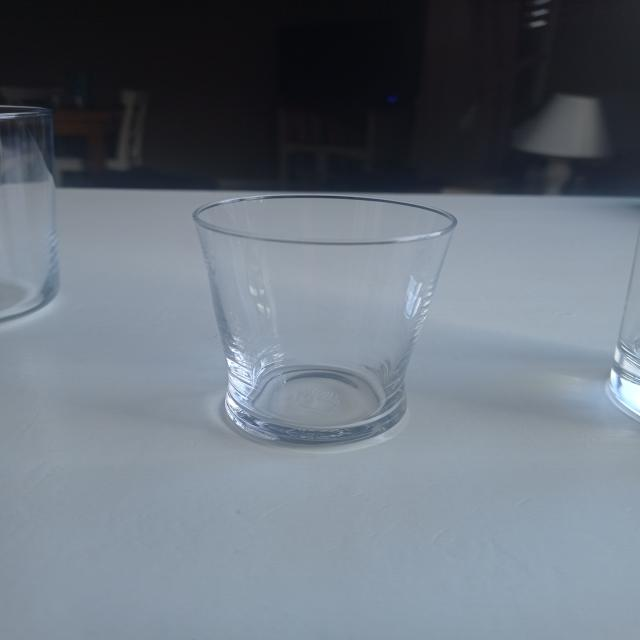Dry Waste: (190, 190, 468, 453), (0, 105, 72, 322), (603, 195, 640, 418)
